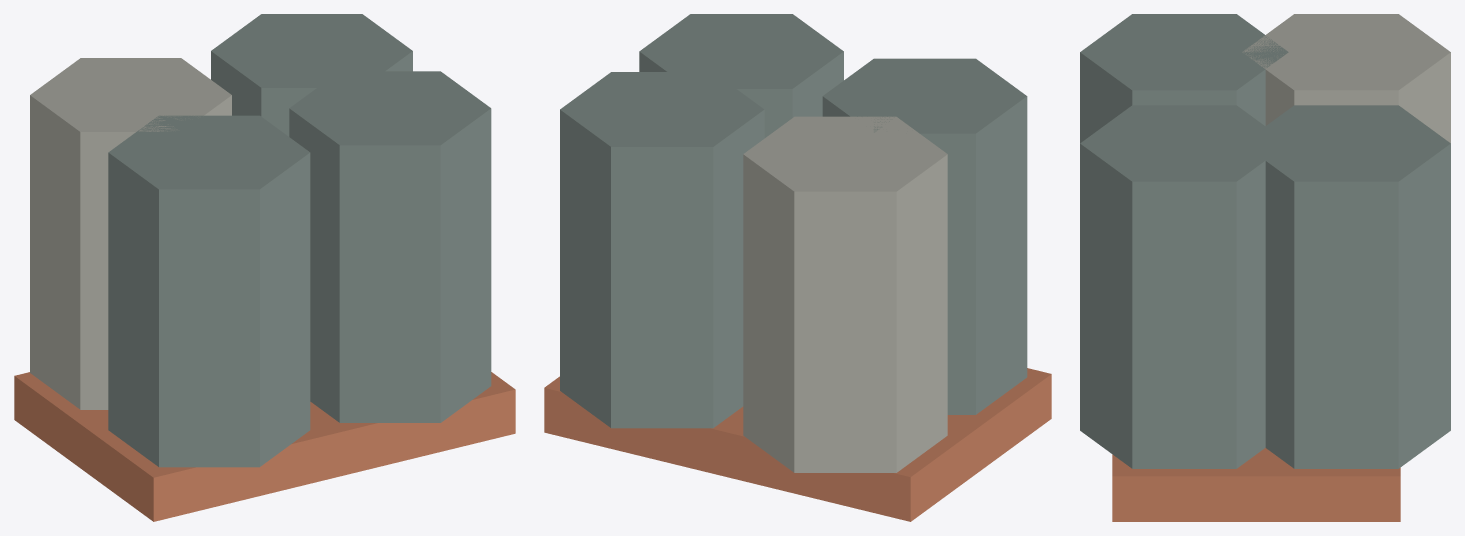
File: SM_Bidones_v0_Pale4_LOD1.fbx
3 renders of one model, left to right at view 1: azimuth 30°, elevation 25°; view 2: azimuth 150°, elevation 25°; view 3: azimuth 270°, elevation 25°, orthographic. The views are drawn at different scales.
Parts seen in each view (by area): view 1: SM_sagunto_vivo_v0_LOD1; view 2: SM_sagunto_vivo_v0_LOD1; view 3: SM_sagunto_vivo_v0_LOD1.
Part boxes in pixels (x1,y1,x2,y2): SM_sagunto_vivo_v0_LOD1: (14, 14, 515, 521); SM_sagunto_vivo_v0_LOD1: (544, 14, 1051, 521); SM_sagunto_vivo_v0_LOD1: (1080, 14, 1450, 521).
Bounding box in the file's own units: 1.2 × 1.02 × 1.03.
